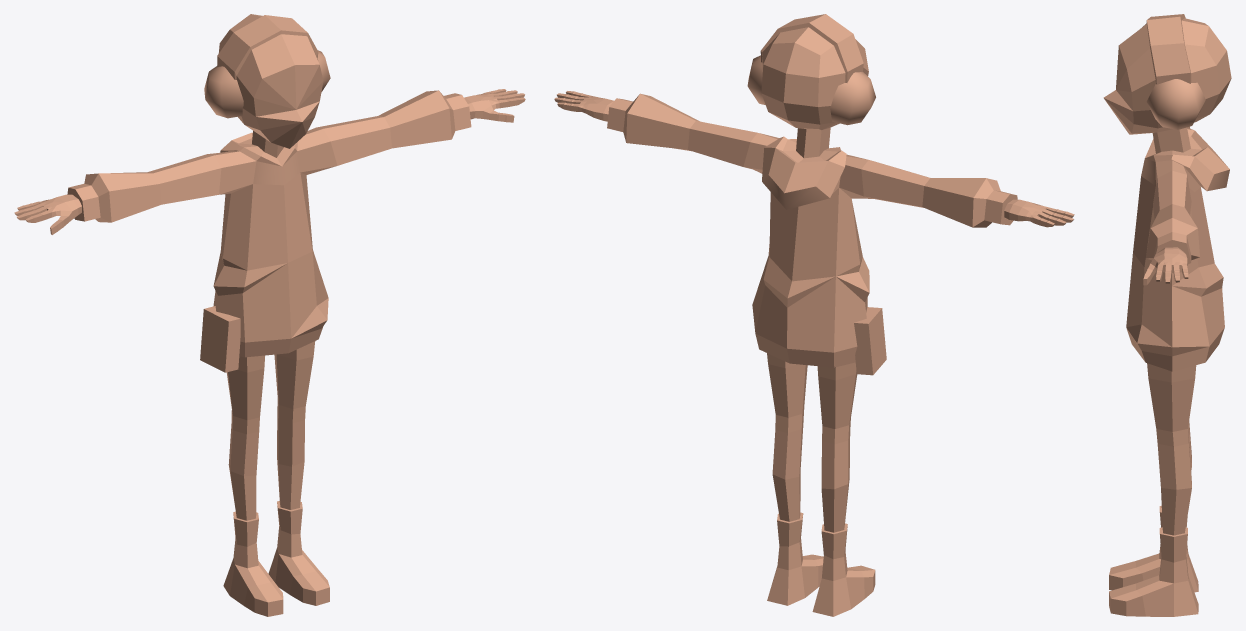
The model's file is repeat-low.fbx.
The picture shows the model from 3 angles, left to right: view 1: azimuth 30°, elevation 25°; view 2: azimuth 150°, elevation 25°; view 3: azimuth 270°, elevation 25°; orthographic projection. The views are drawn at different scales.
Parts seen in each view (by area): view 1: top_low, bottom_low, head_low, hand_low, Box_low, HP_low; view 2: top_low, bottom_low, head_low, hand_low, HP_low, Box_low; view 3: top_low, bottom_low, head_low, HP_low, hand_low.
Part boxes in pixels (x1,y1,x2,y2): top_low: (67,90,471,357); bottom_low: (223,341,329,616); head_low: (217,14,323,157); hand_low: (14,89,525,234); Box_low: (200,306,240,372); HP_low: (204,50,330,118); top_low: (607,93,1017,367); bottom_low: (767,353,875,616); head_low: (760,14,868,158); hand_low: (554,91,1074,227); HP_low: (747,55,875,125); Box_low: (854,307,886,375); top_low: (1126,126,1229,371); bottom_low: (1109,363,1198,616); head_low: (1103,14,1231,153); HP_low: (1146,79,1205,129); hand_low: (1143,247,1188,285).
Size of the model in its own units: 150 by 161 by 32.22.
